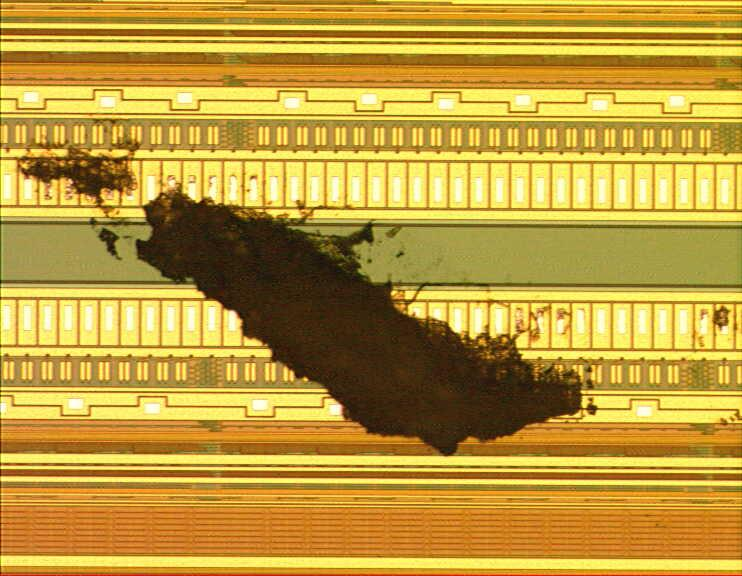PO CONTAMINATION: (1, 109, 604, 462)
